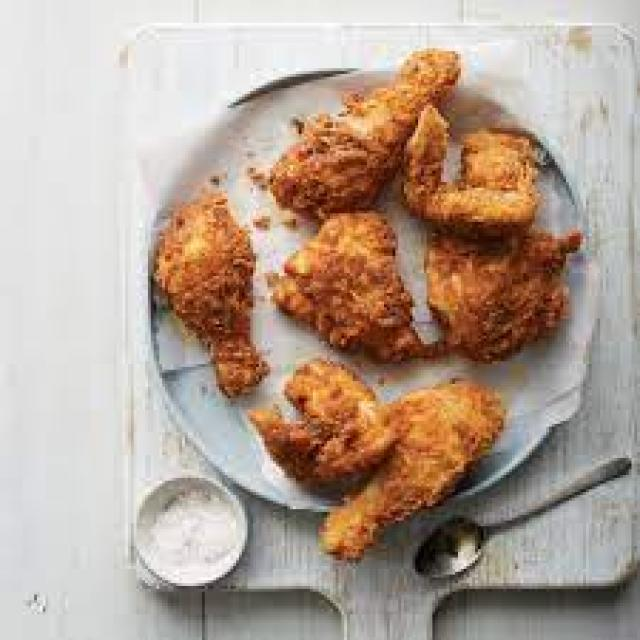Frango: (162, 34, 589, 580)
